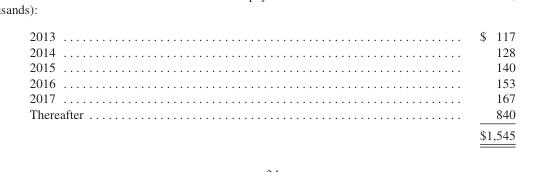table: (28, 28, 514, 141)
table column: (28, 28, 280, 141), (280, 28, 514, 141)
table row: (28, 105, 514, 123), (28, 123, 514, 141), (28, 43, 514, 59), (28, 74, 514, 90), (28, 28, 514, 43), (28, 59, 514, 74), (28, 90, 514, 105)
